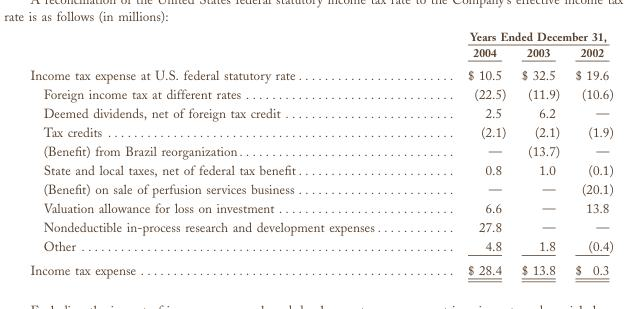table: (29, 28, 612, 277)
table column: (29, 28, 460, 277), (460, 28, 513, 277), (513, 28, 566, 277), (566, 28, 612, 277)
table column header: (29, 28, 612, 63)
table row: (29, 63, 612, 84), (29, 236, 612, 257), (29, 257, 612, 277), (29, 44, 612, 63), (29, 84, 612, 103), (29, 103, 612, 122), (29, 122, 612, 141), (29, 141, 612, 160), (29, 160, 612, 179), (29, 179, 612, 198), (29, 198, 612, 217), (29, 217, 612, 236), (29, 28, 612, 44)
table spanning cell: (460, 28, 612, 44)
